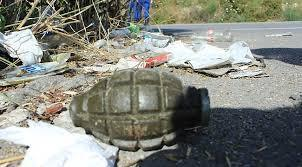Grenade: (67, 67, 211, 151)
